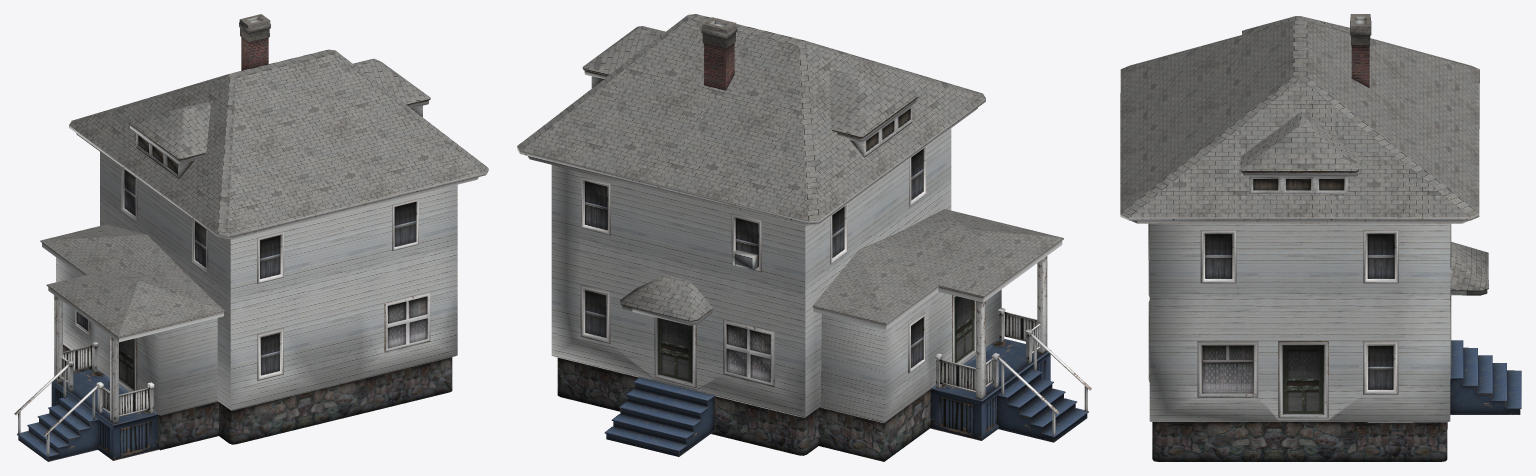
Rendered from casa.gltf.
3 renders of one model, left to right at view 1: azimuth 30°, elevation 25°; view 2: azimuth 150°, elevation 25°; view 3: azimuth 270°, elevation 25°, orthographic. The views are drawn at different scales.
Parts seen in each view (by area): view 1: house; view 2: house; view 3: house.
Boxes of the visible parts, x1,y1,x2,y2 form: house: (14, 14, 488, 461); house: (517, 14, 1091, 461); house: (1120, 14, 1521, 461).
Size of the model in its own units: 124 by 97.6 by 93.13.
Materials: 3 (3 with a texture image).
